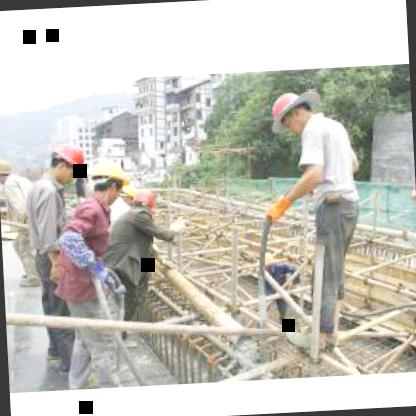helmet: (268, 88, 316, 136), (86, 158, 134, 202), (48, 137, 90, 187), (132, 186, 160, 216), (0, 154, 17, 183)
